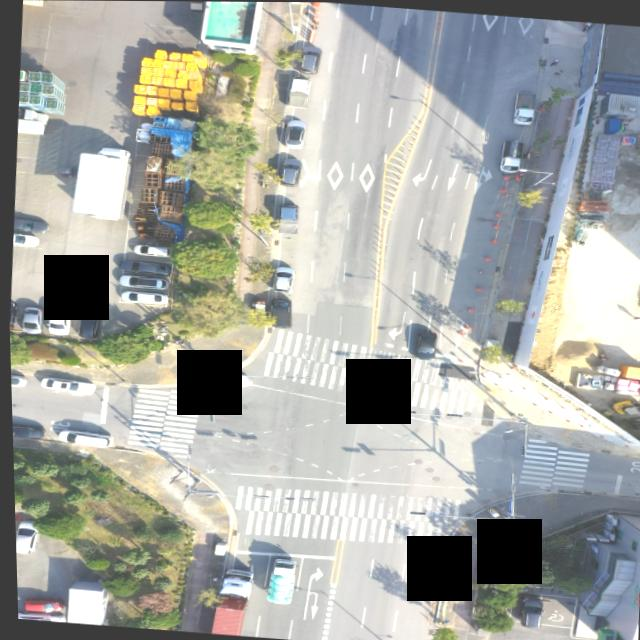car: (197, 370, 249, 394), (54, 430, 109, 448), (514, 596, 541, 630), (35, 376, 90, 392), (71, 305, 97, 338), (117, 258, 169, 274), (12, 518, 35, 554), (17, 597, 59, 615), (117, 272, 166, 287), (410, 330, 435, 359), (277, 156, 301, 185), (281, 119, 305, 148), (295, 45, 319, 74), (118, 287, 166, 301), (44, 307, 68, 334), (269, 264, 293, 291), (264, 259, 288, 286), (15, 306, 38, 332), (14, 609, 61, 621), (11, 218, 47, 232), (10, 425, 43, 439), (129, 245, 165, 257), (10, 231, 36, 245), (9, 370, 28, 383), (9, 373, 23, 385)
large_truck: (199, 574, 248, 636)
medium_truck: (65, 146, 128, 223)
small_truck: (259, 554, 294, 604), (282, 72, 309, 106), (495, 138, 522, 172), (265, 294, 292, 327), (273, 201, 299, 235), (509, 91, 533, 124), (134, 120, 152, 141)
